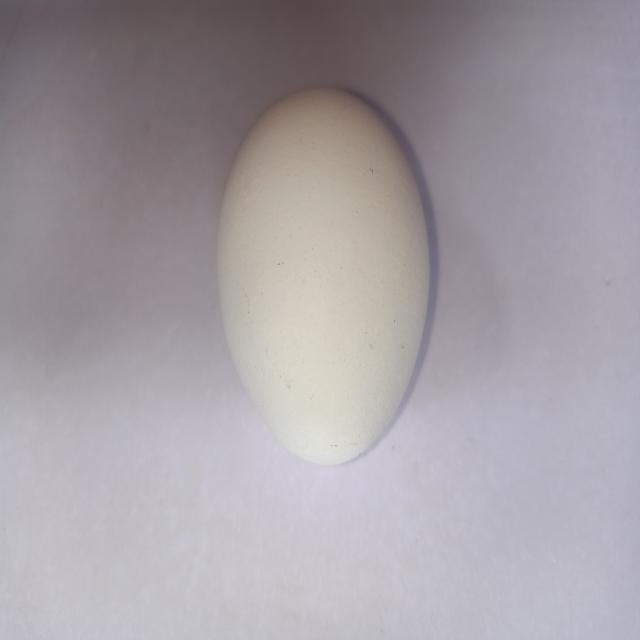Egg: (200, 62, 454, 492)
